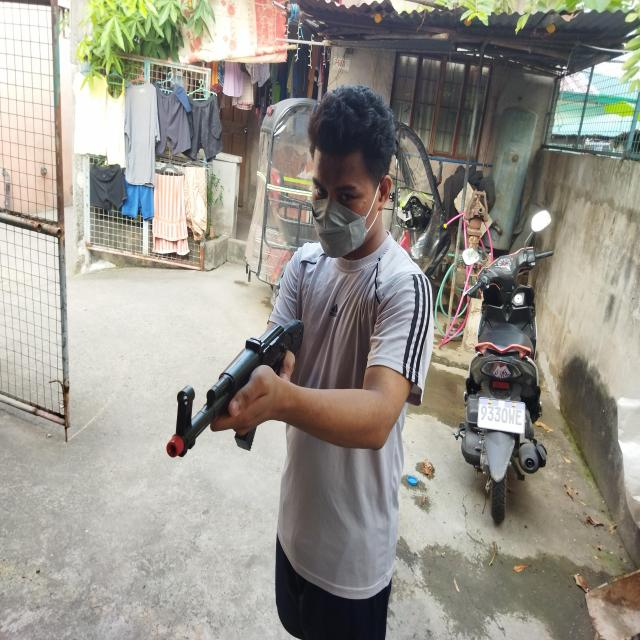rifle: (166, 318, 304, 459)
